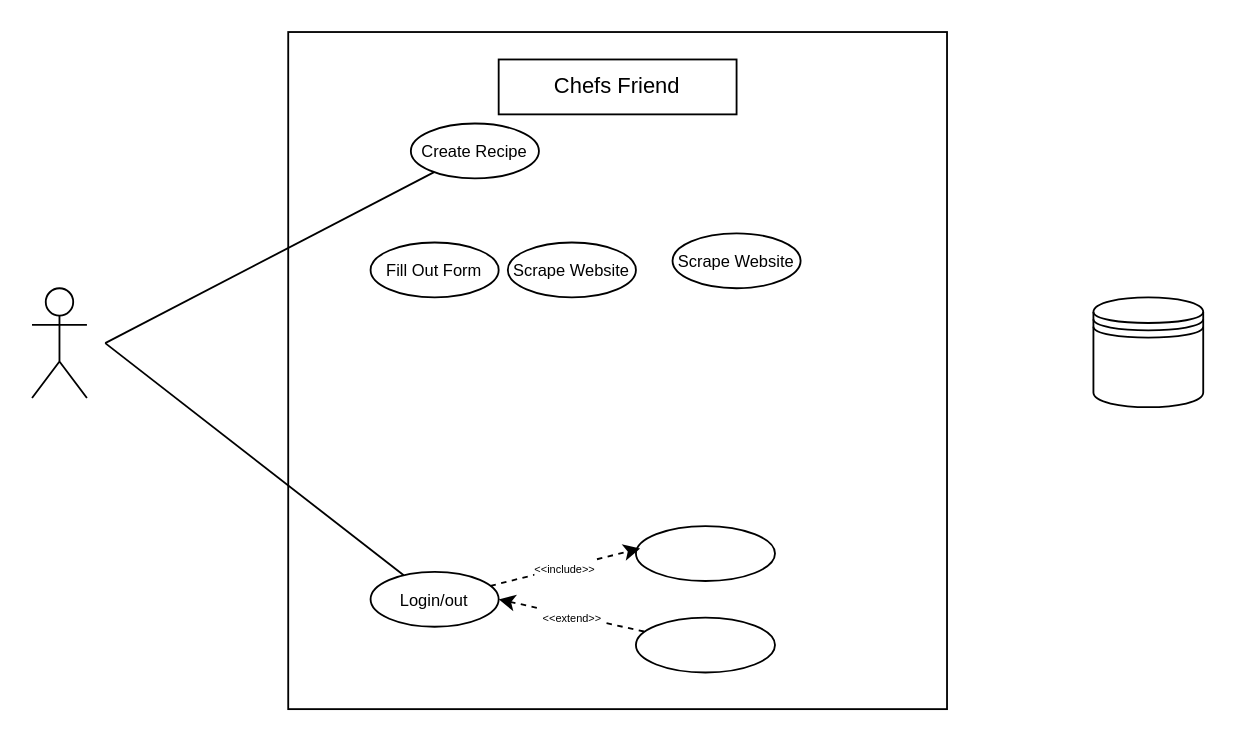
Image size: 1235x741. Some labels were removed from this diagram. The centre of each missing label's shape, as x and y in pixels:
Actor: the point at 58,342
Display Error: the point at 704,644
Verify Information: the point at 704,552
